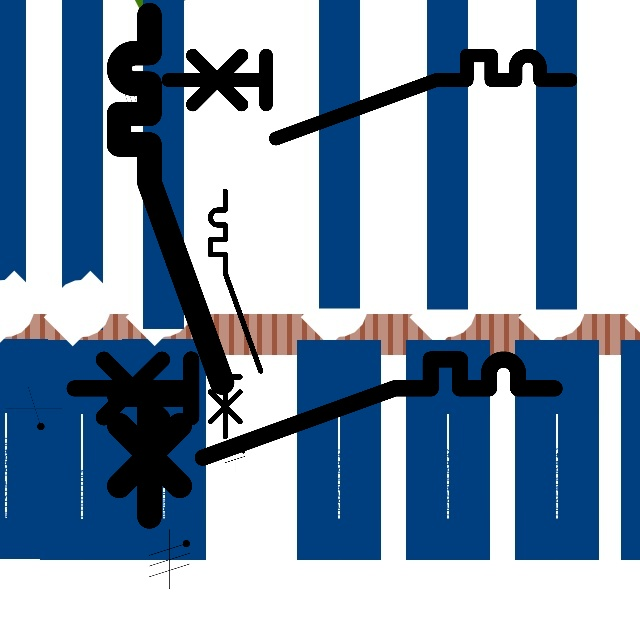interruptor_termomagnetico: (106, 2, 235, 530), (62, 347, 567, 470), (157, 45, 580, 148), (204, 185, 267, 443)
